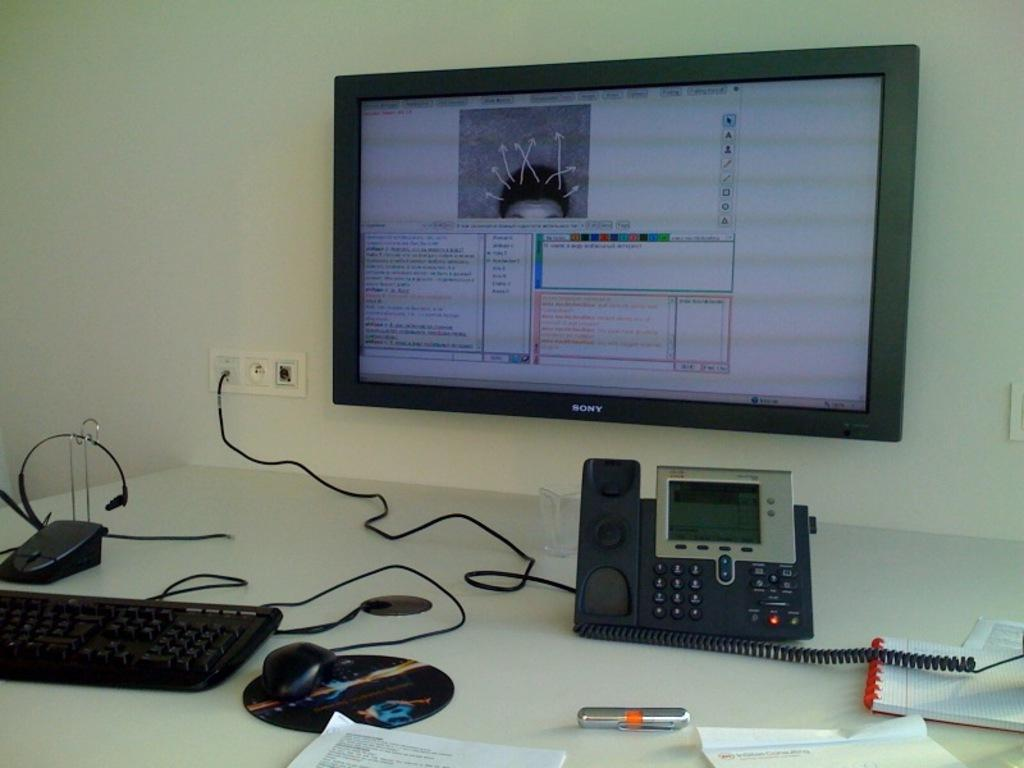Computer-keyboard: (0, 590, 280, 692)
